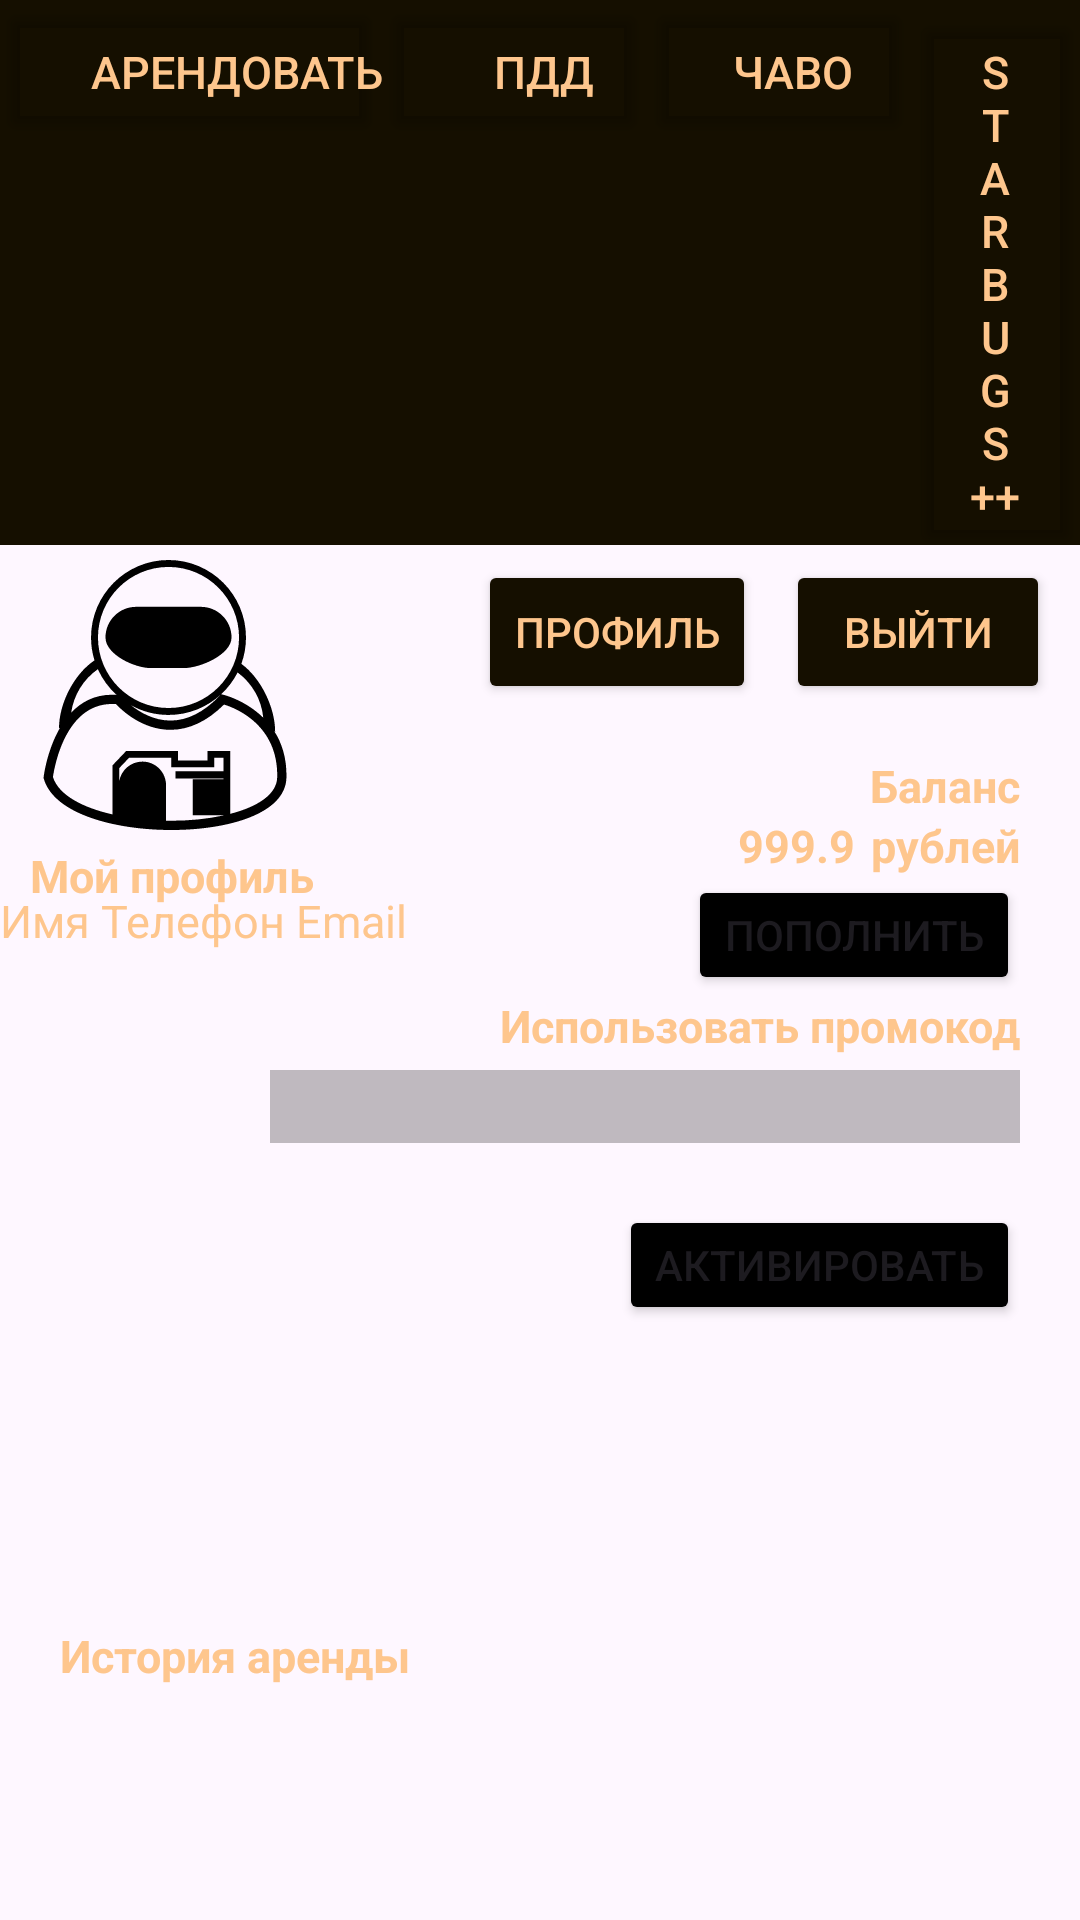

Where to tap for icons on this 1080 × 1920 app screen, as [x,y]:
astronaut: [165,695]
